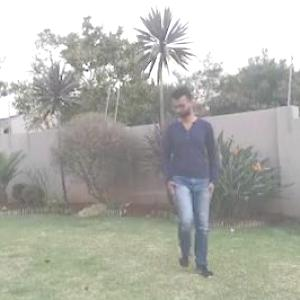follow: (156, 71, 228, 285)
